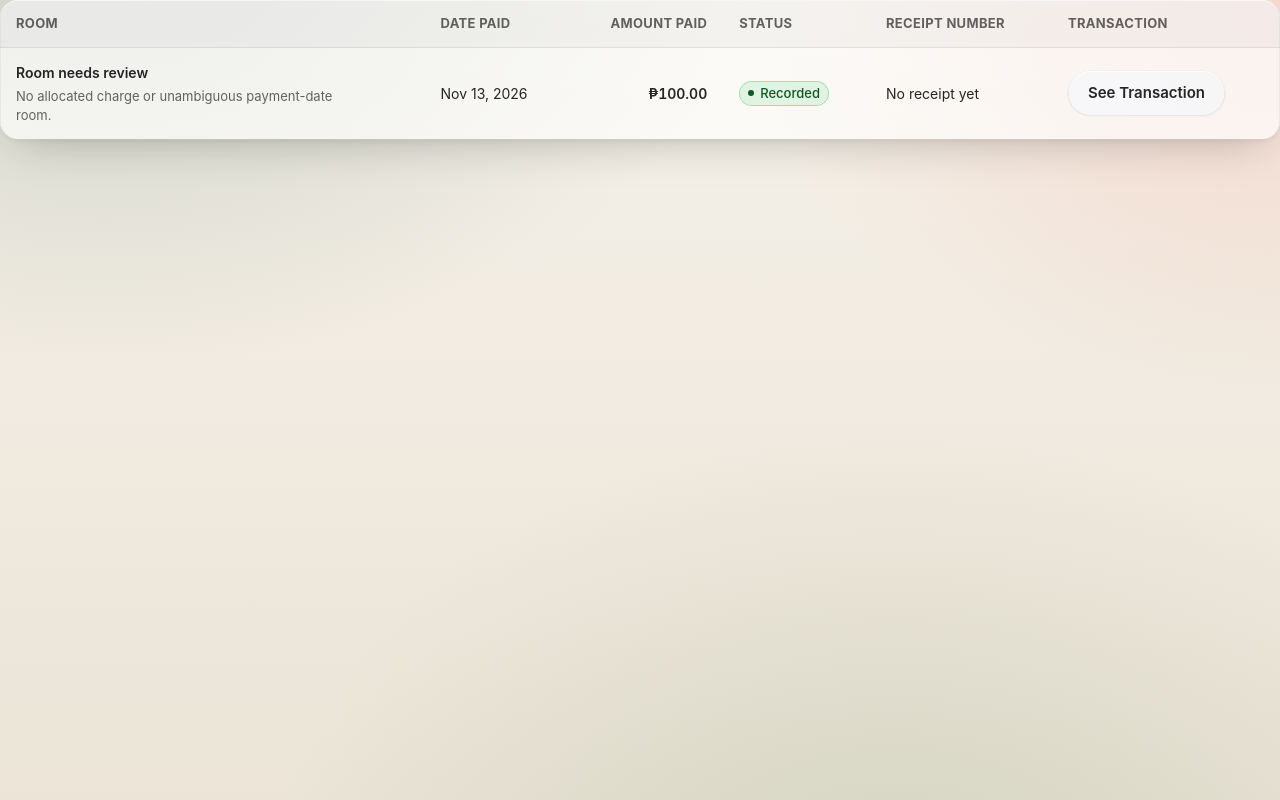
Test: Payment History transaction dialog › shows a neutral payer fallback when no tenant identity exists
Click the button "See Transaction". click: coordinates (1147, 93)
box: left=1068, top=71, right=1225, bottom=115
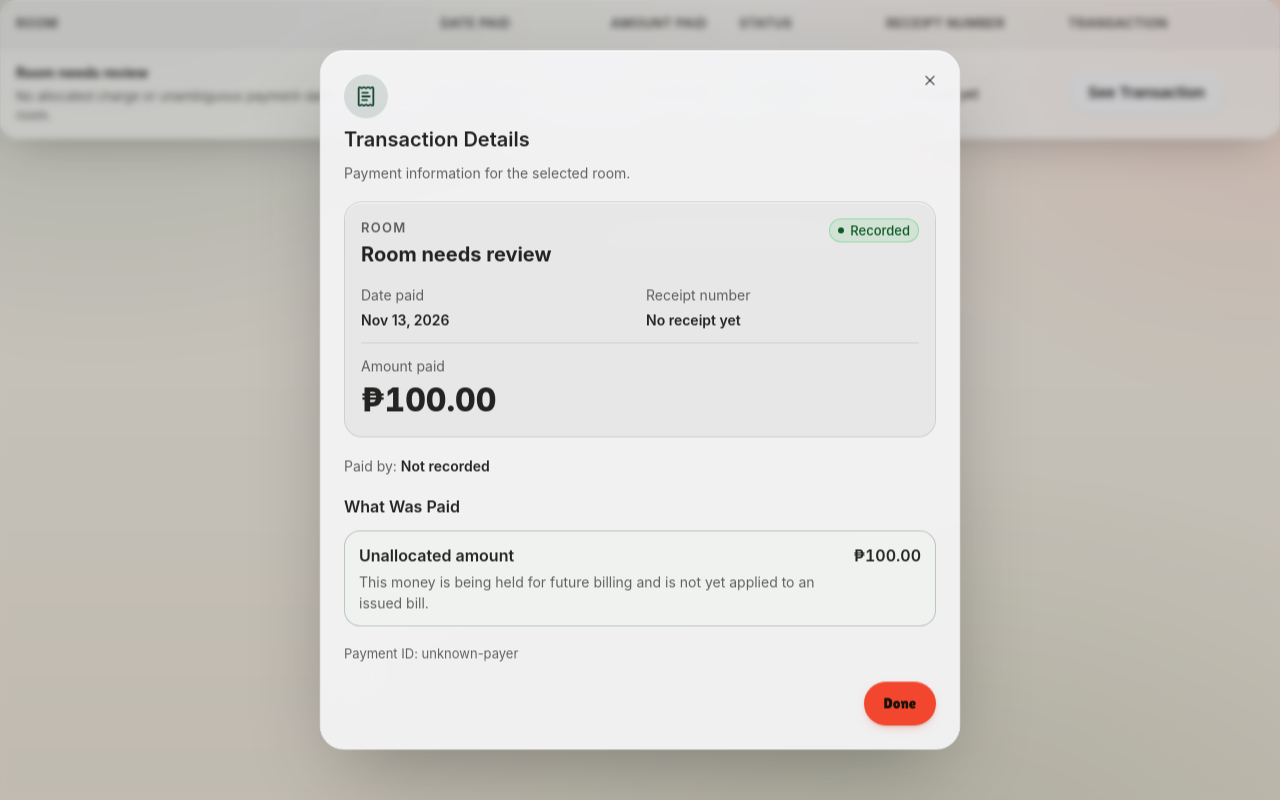
Check: the dialog "Transaction Details" shows "Paid by: Not recorded", box left=320, top=50, right=960, bottom=750
